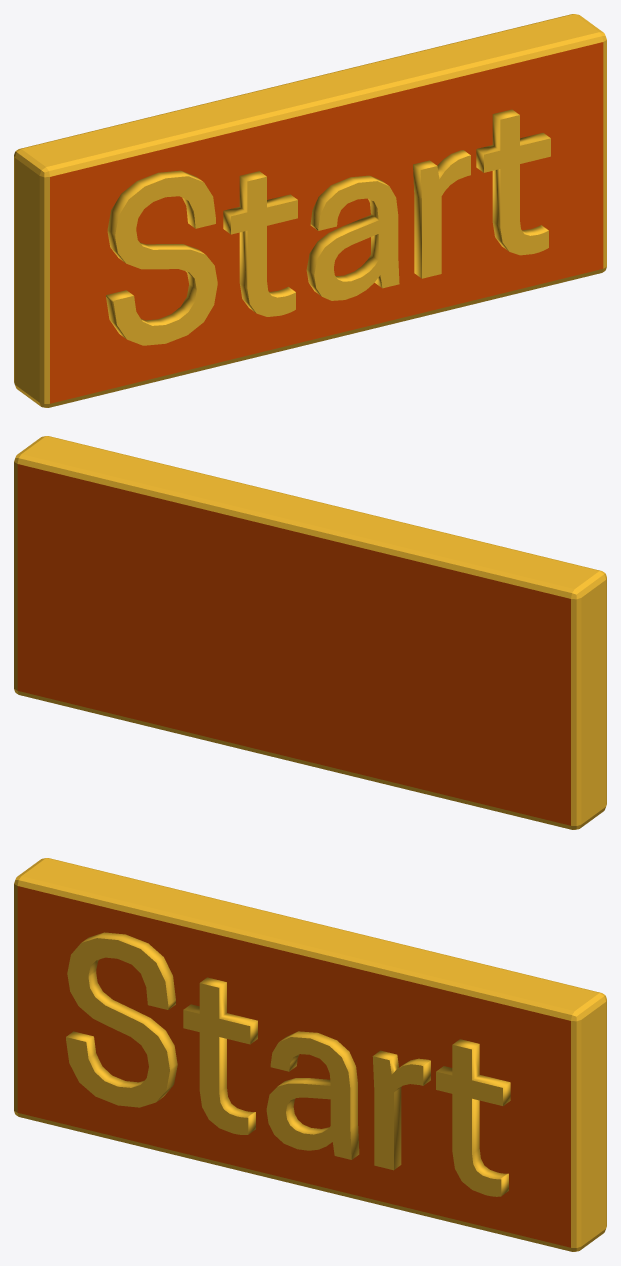
The model's file is Start Button.fbx.
3 views of the same model, one above another, from view 1: azimuth 30°, elevation 25°; view 2: azimuth 150°, elevation 25°; view 3: azimuth 330°, elevation 25° (orthographic).
Visible parts, largest first — view 1: StartButton; view 2: StartButton; view 3: StartButton.
Part boxes in pixels (<box>): StartButton: <box>14,14,606,407</box>; StartButton: <box>14,436,606,829</box>; StartButton: <box>14,858,606,1251</box>.
Bounding box in the file's own units: 2.44 × 0.9895 × 0.2988.
